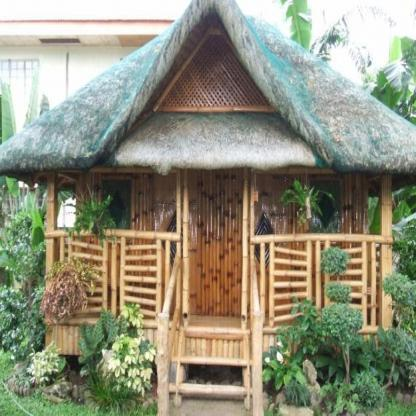Building Outline: (1, 1, 416, 365)
Dont: (261, 247, 415, 390), (78, 301, 157, 404), (39, 255, 108, 329), (61, 184, 119, 246), (276, 177, 334, 230)
Door: (245, 173, 289, 315), (152, 173, 196, 315)
Raised Floor: (75, 166, 369, 315)
Roof: (0, 1, 416, 176)
Window: (159, 35, 273, 107), (311, 178, 341, 234), (103, 178, 133, 234)
